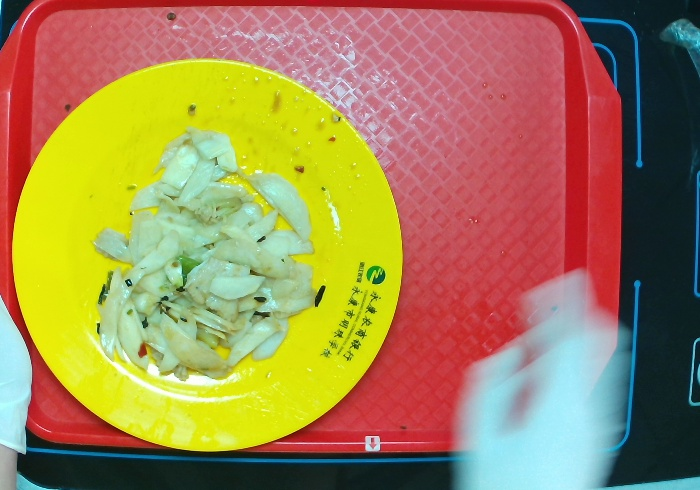YKMZ-Huang_Se_Mian_Pan: (5, 48, 424, 462)
